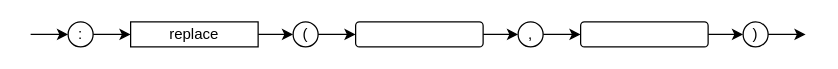
This 838x69 diagram has some shape labels left out. The shapes that lost their labels are listed below. From the top down, each one's centre as x and y in pixels, then its label:
point 418,34: regexp
point 643,34: replacement
